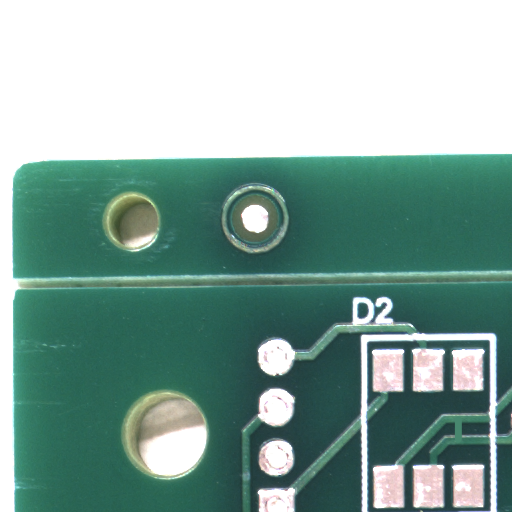Short: (459, 429, 471, 449)
